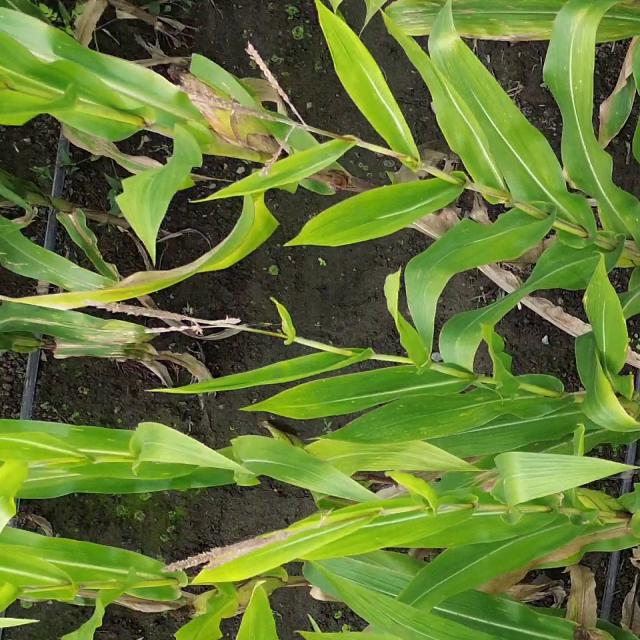gray-leaf-spot: (28, 250, 151, 360), (62, 432, 182, 492), (397, 6, 551, 48)
southern-leaf-blight: (353, 392, 477, 447)
